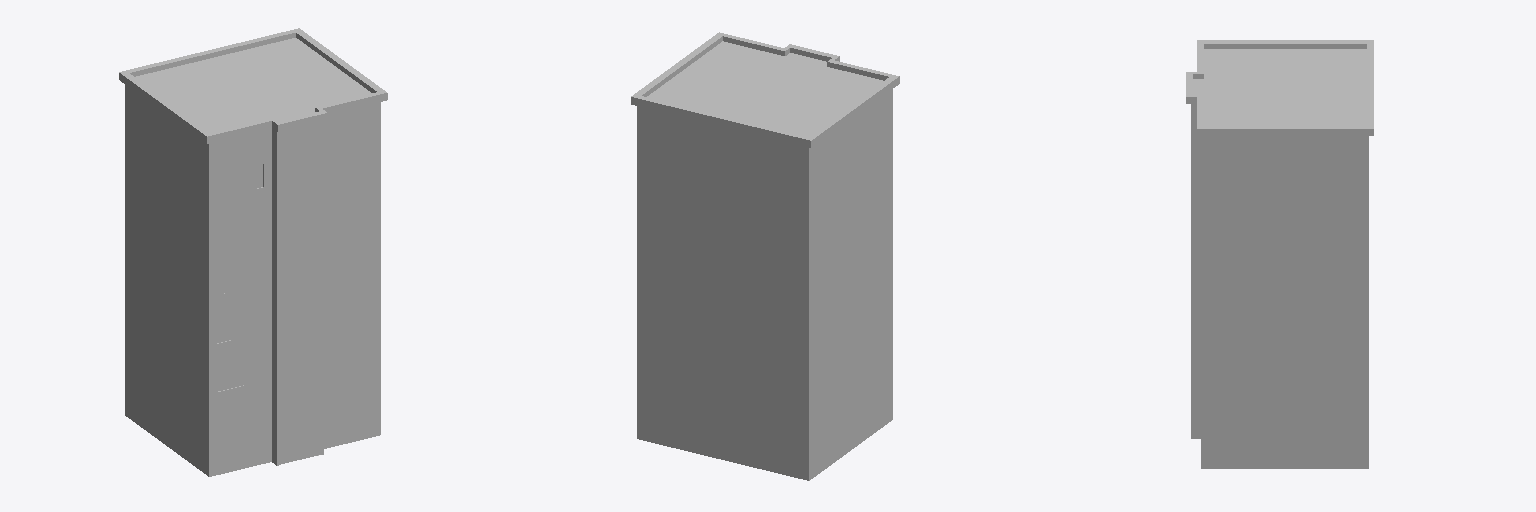
File: Building Sky_big_color01.obj
The picture shows the model from 3 angles: view 1: azimuth 30°, elevation 25°; view 2: azimuth 150°, elevation 25°; view 3: azimuth 270°, elevation 25°; orthographic projection.
Size of the model in its own units: 1366 by 2480 by 1230.